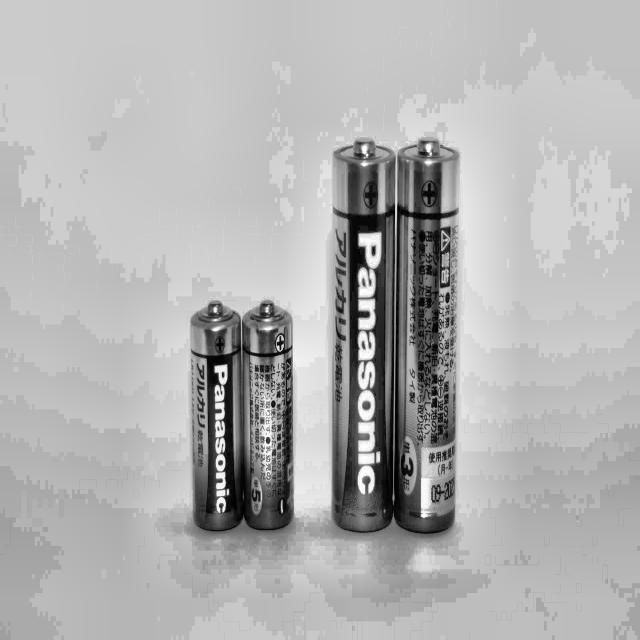drycell: (185, 292, 244, 531), (244, 294, 298, 539)
